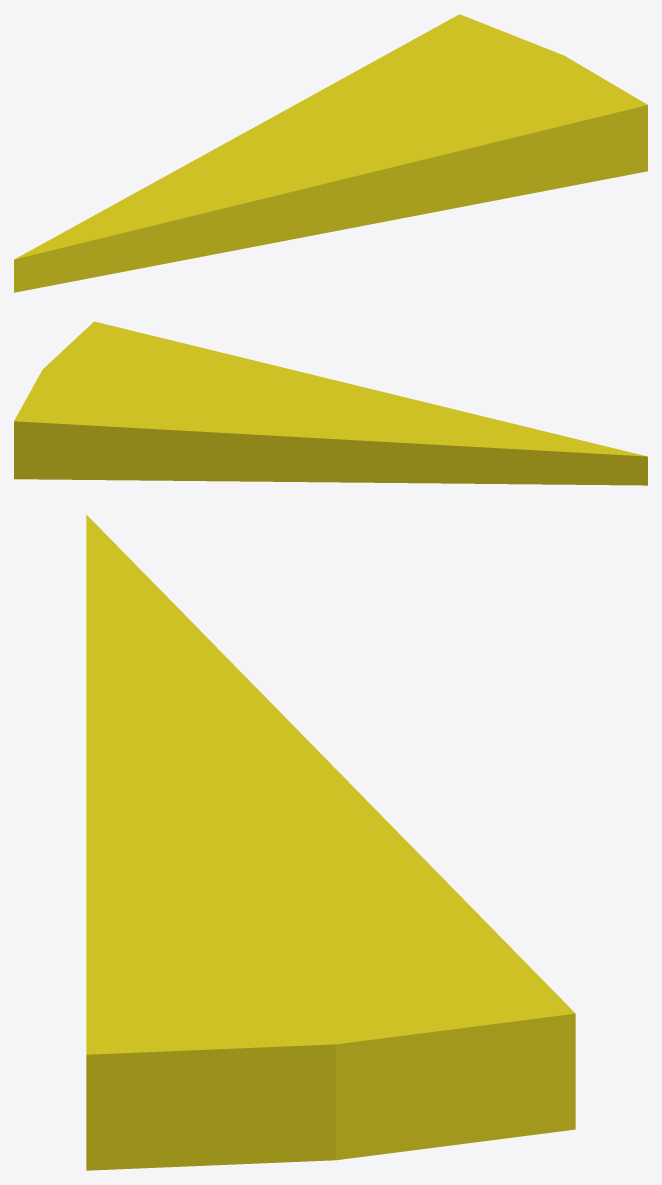
Rendered from 2SegmentSlice.glb.
The picture shows the model from 3 angles, top to bottom: view 1: azimuth 30°, elevation 25°; view 2: azimuth 150°, elevation 25°; view 3: azimuth 270°, elevation 25°; orthographic projection. The views are drawn at different scales.
Parts seen in each view (by area): view 1: Cylinder; view 2: Cylinder; view 3: Cylinder.
Part boxes in pixels (<box>): Cylinder: <box>14,14,647,292</box>; Cylinder: <box>14,321,647,485</box>; Cylinder: <box>86,515,575,1170</box>.
Bounding box in the file's own units: 10 × 1 × 3.83.
